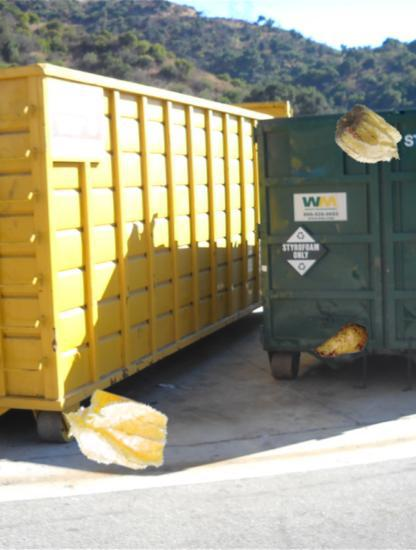Pear: (313, 314, 370, 371)
Physalis: (58, 375, 172, 489), (332, 101, 408, 177)
